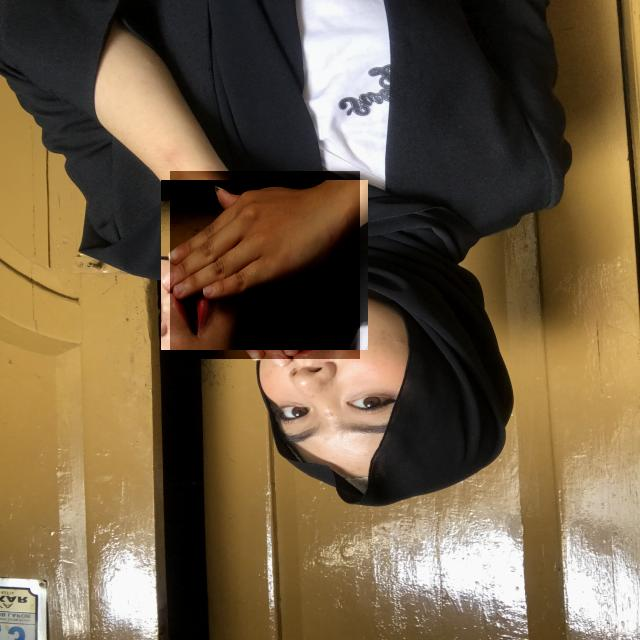ngantuk: (170, 171, 360, 359)
